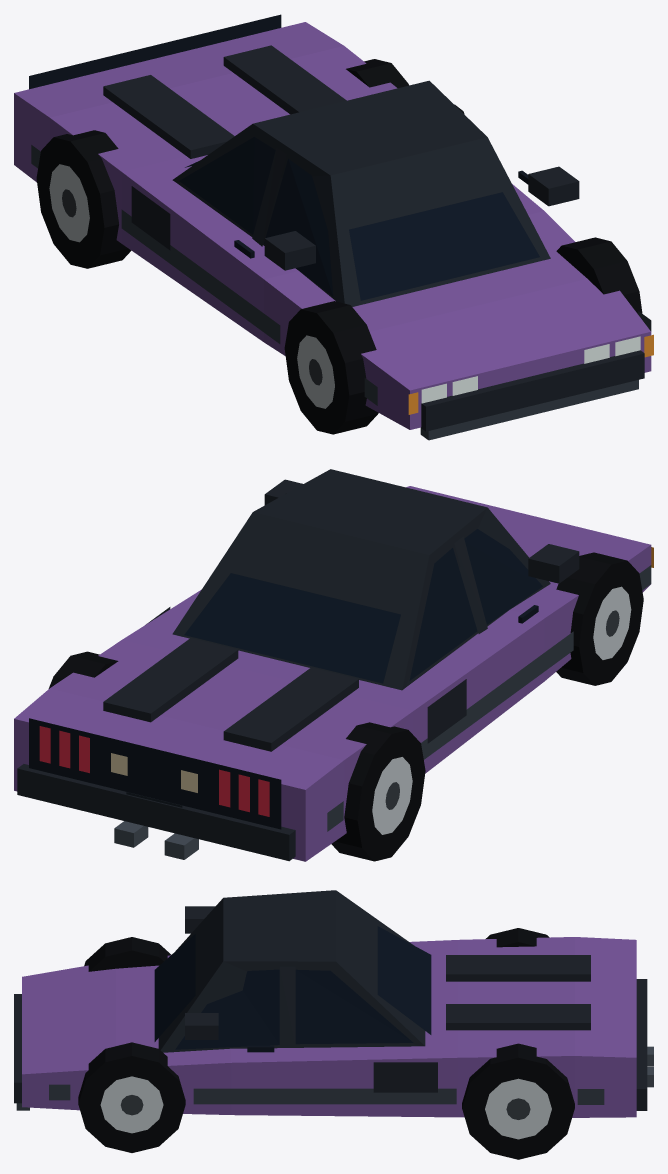
The model's file is kagero-vx-low-poly.obj.
The picture shows the model from 3 angles, top to bottom: view 1: azimuth 30°, elevation 25°; view 2: azimuth 150°, elevation 25°; view 3: azimuth 270°, elevation 25°; orthographic projection. The views are drawn at different scales.
Visible parts, largest first — view 1: kagero-body-shell, kagero-cab-forward-cabin, kagero-windshield, kagero-front-bumper, kagero-left-engine-vent, kagero-rear-side-window--1, kagero-right-engine-vent, kagero-rear-wheel--1-cap-a, kagero-front-side-window--1, kagero-front-wheel--1-cap-a, kagero-front-wheel--1-tread, kagero-rear-garnish (+12 smaller); view 2: kagero-body-shell, kagero-cab-forward-cabin, kagero-rear-window, kagero-rear-garnish, kagero-rear-bumper, kagero-left-engine-vent, kagero-right-engine-vent, kagero-rear-side-window--1, kagero-rear-wheel--1-cap-a, kagero-front-side-window--1, kagero-front-wheel--1-cap-a, kagero-rear-wheel--1-tread (+10 smaller); view 3: kagero-body-shell, kagero-cab-forward-cabin, kagero-rear-side-window-1, kagero-rear-wheel-1-cap-b, kagero-front-wheel-1-cap-b, kagero-front-side-window-1, kagero-center-side-skirt-1, kagero-rear-window, kagero-left-engine-vent, kagero-right-engine-vent, kagero-windshield, kagero-rear-wheel-1-hub (+14 smaller).
Part boxes in pixels (x1,y1,x2,y2): kagero-body-shell: (14,22,651,429); kagero-cab-forward-cabin: (172,80,550,306); kagero-windshield: (349,192,539,300); kagero-front-bumper: (421,350,644,431); kagero-left-engine-vent: (103,75,234,158); kagero-rear-side-window--1: (179,137,275,234); kagero-right-engine-vent: (223,45,346,114); kagero-rear-wheel--1-cap-a: (36,137,104,268); kagero-front-side-window--1: (264,158,333,296); kagero-front-wheel--1-cap-a: (284,309,349,434); kagero-front-wheel--1-tread: (301,301,378,434); kagero-rear-garnish: (29,14,281,89); kagero-body-shell: (14,486,651,861); kagero-cab-forward-cabin: (172,469,550,690); kagero-rear-window: (184,573,400,683); kagero-rear-garnish: (29,718,281,829); kagero-rear-bumper: (17,764,295,861); kagero-left-engine-vent: (223,667,358,751); kagero-right-engine-vent: (103,638,238,722); kagero-rear-side-window--1: (409,548,477,680); kagero-rear-wheel--1-cap-a: (357,730,425,861); kagero-front-side-window--1: (464,529,542,624); kagero-front-wheel--1-cap-a: (579,560,643,685); kagero-rear-wheel--1-tread: (331,722,407,861); kagero-body-shell: (22,937,636,1117); kagero-cab-forward-cabin: (158,890,425,1052); kagero-rear-side-window-1: (295,969,413,1044); kagero-rear-wheel-1-cap-b: (462,1057,574,1159); kagero-front-wheel-1-cap-b: (78,1056,185,1152); kagero-front-side-window-1: (175,969,279,1049); kagero-center-side-skirt-1: (193,1088,456,1104); kagero-rear-window: (377,926,431,1034); kagero-left-engine-vent: (446,955,590,981); kagero-right-engine-vent: (446,1004,590,1030); kagero-windshield: (154,934,195,1041); kagero-rear-wheel-1-hub: (485,1078,551,1139).
Size of the model in its own units: 2.31 by 1.39 by 4.77.
